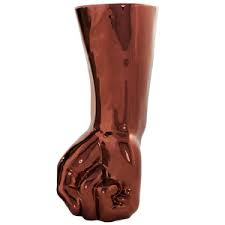fist: (63, 134, 149, 219)
